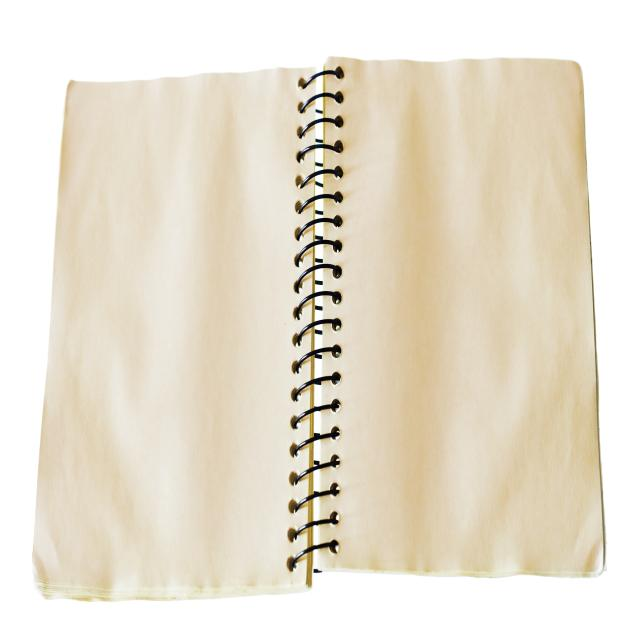paper: (47, 69, 302, 516)
